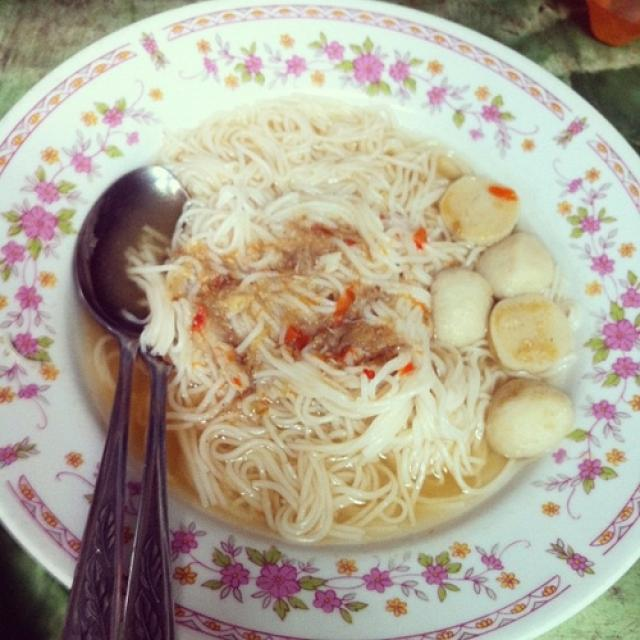面条主食: (13, 16, 617, 618)
